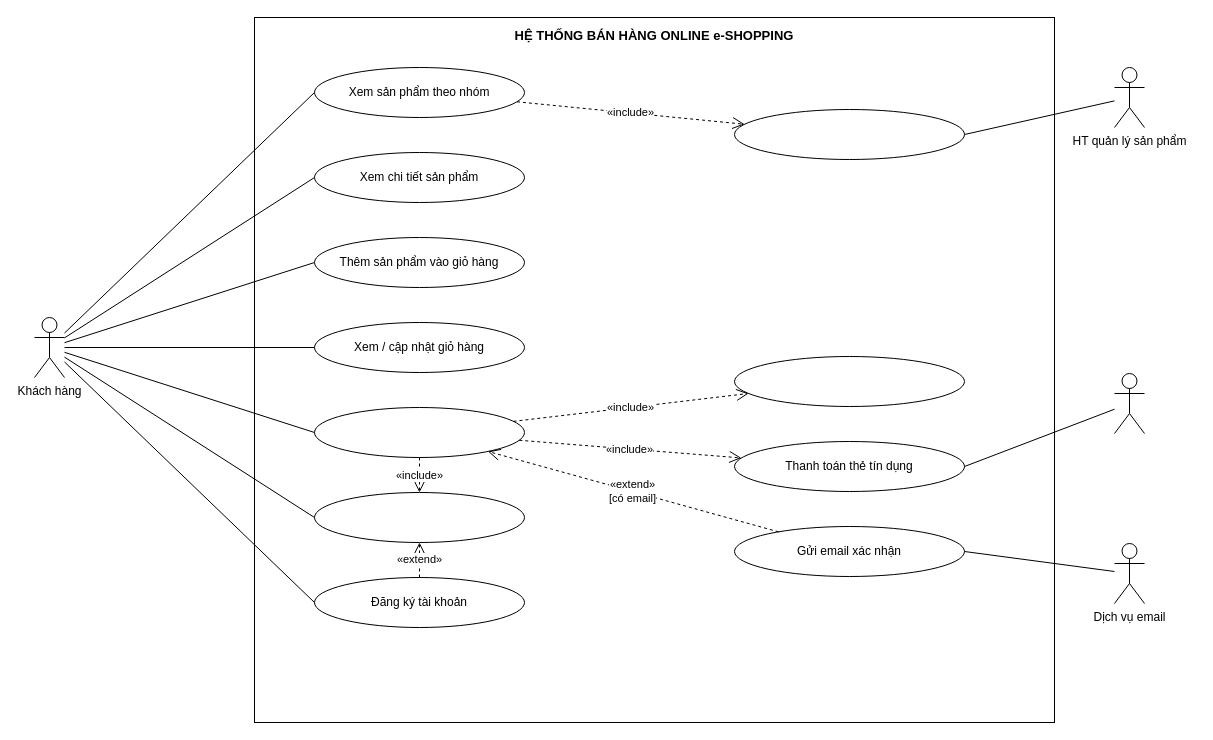
Image size: 1213x740. Some labels were removed from this diagram. The shapes that lost their labels are listed below. From the top down, each one's centre as x and y in pixels, then its label:
At (x=849, y=134): "Lấy thông tin sản phẩm".
At (x=849, y=381): "Tính chi phí giao hàng".
At (x=1129, y=403): "HT thanh toán trực tuyến".
At (x=419, y=432): "Đặt mua hàng (tính tiền)".
At (x=419, y=517): "Đăng nhập".
